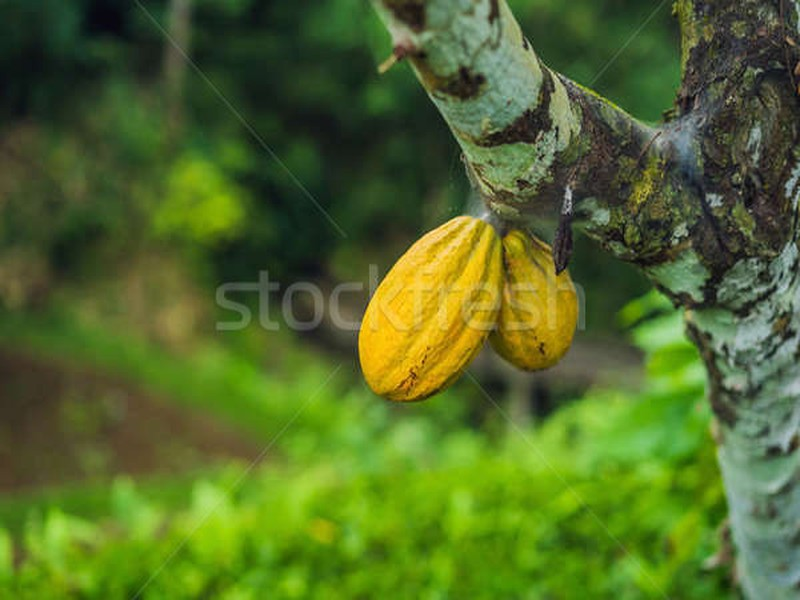Cacaopod: (354, 212, 500, 403)
